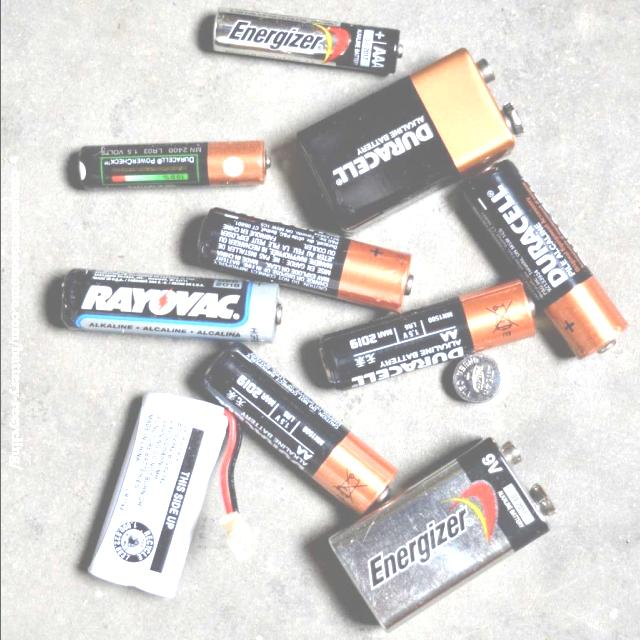9V: (326, 436, 556, 634), (291, 47, 524, 234)
AA: (456, 156, 631, 365), (195, 338, 399, 517), (314, 278, 535, 395), (192, 202, 416, 313), (56, 264, 286, 346), (208, 7, 404, 79), (70, 139, 274, 192)
COIN: (448, 352, 503, 406)
